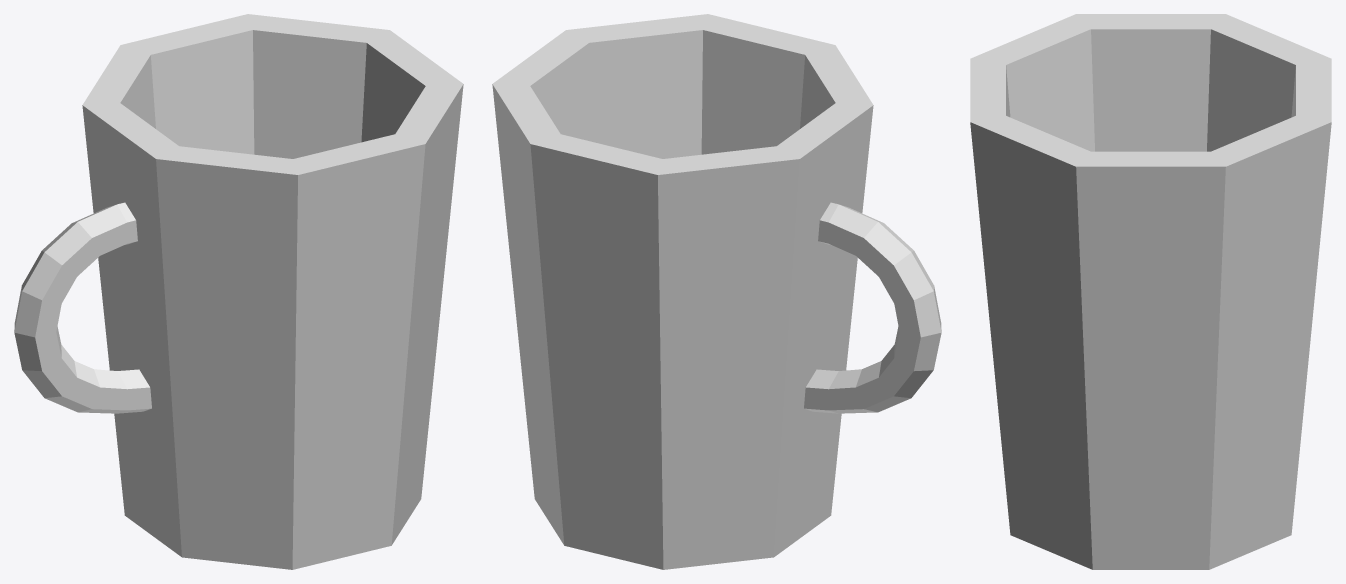
The model's file is Cup2_C1.fbx.
3 renders of one model, left to right at view 1: azimuth 30°, elevation 25°; view 2: azimuth 150°, elevation 25°; view 3: azimuth 270°, elevation 25°, orthographic.
Parts seen in each view (by area): view 1: Cup2_C1; view 2: Cup2_C1; view 3: Cup2_C1.
Boxes of the visible parts, x1,y1,x2,y2 form: Cup2_C1: (14, 14, 463, 569); Cup2_C1: (492, 14, 941, 569); Cup2_C1: (970, 14, 1331, 569).
Bounding box in the file's own units: 12.45 × 11.91 × 9.29.
